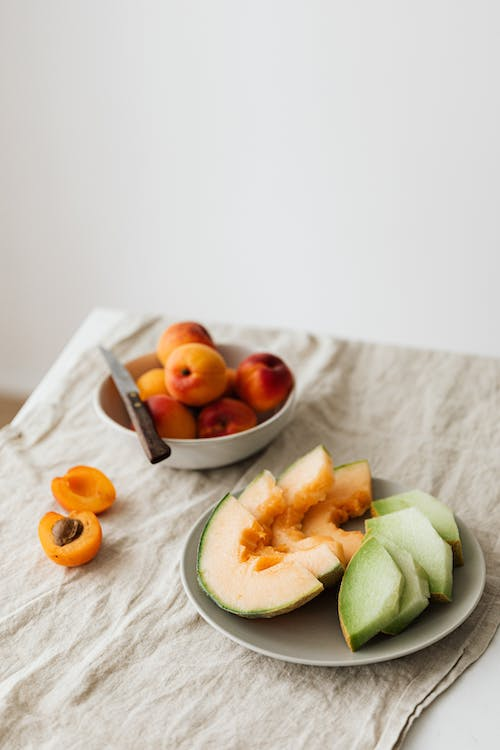knife: (97, 341, 175, 467)
